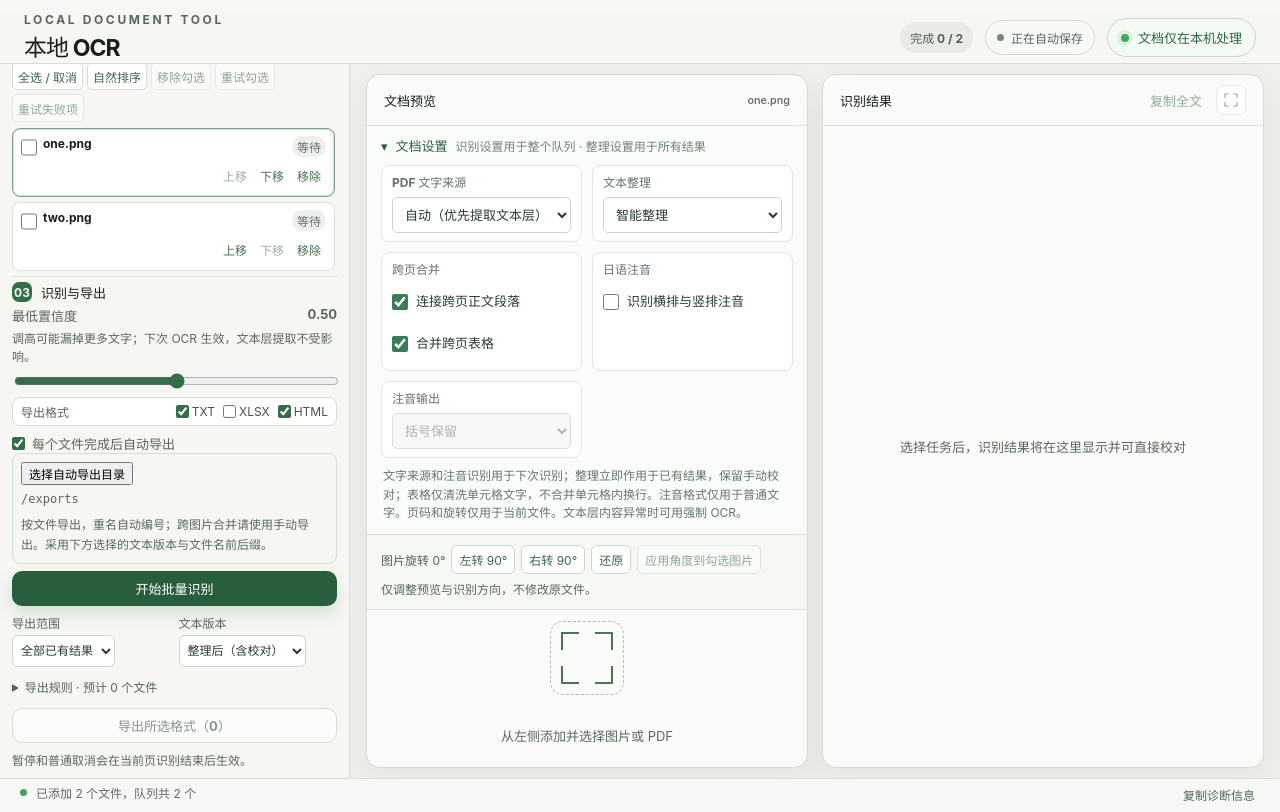
Test case: result retention and automatic exports › exports each completed file before starting the next without opening a dialog
(page scrolled)
Click the button "开始批量识别" at (174, 588), box [12,570,337,606]
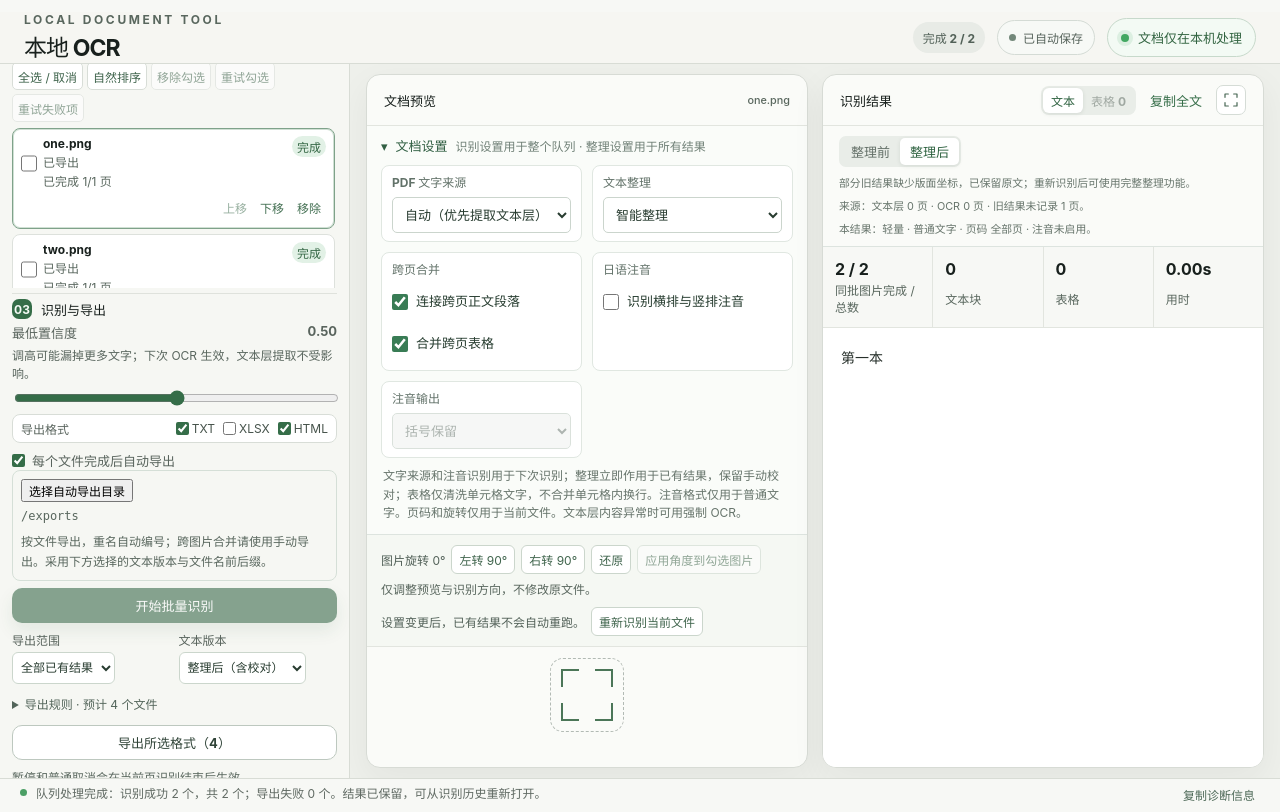
Expected: the text "/exports" is shown, [21,509,79,523]
Expected: the text "已导出" is shown, [43,155,79,170]
